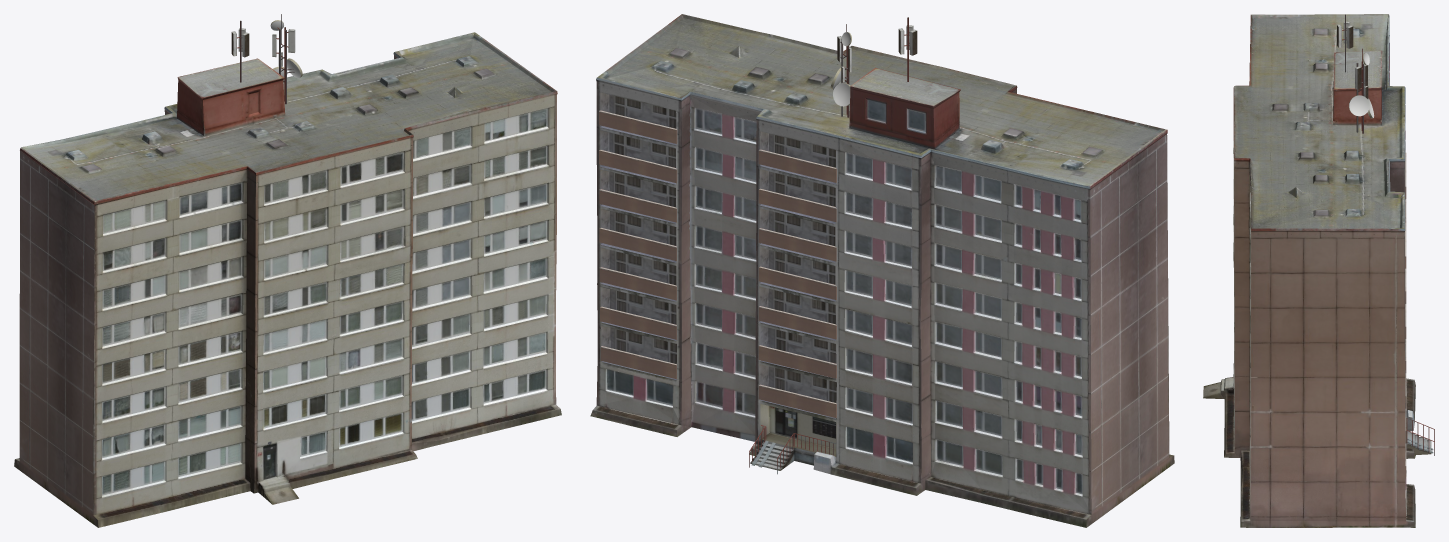
File: Block_Flats.fbx
3 renders of one model, left to right at view 1: azimuth 30°, elevation 25°; view 2: azimuth 150°, elevation 25°; view 3: azimuth 270°, elevation 25°, orthographic. The views are drawn at different scales.
Visible parts, largest first — view 1: Block of flats, panela1; view 2: Block of flats, panela1; view 3: Block of flats, panela1, panela2.
Boxes of the visible parts, box(x1,y1,x2,y2) form: Block of flats: box(14, 32, 561, 527); panela1: box(270, 14, 302, 104); Block of flats: box(590, 14, 1174, 527); panela1: box(830, 24, 851, 117); Block of flats: box(1203, 14, 1434, 527); panela1: box(1348, 48, 1374, 133); panela2: box(1337, 14, 1353, 72).
Bounding box in the file's own units: 3645 × 3147 × 1679.
